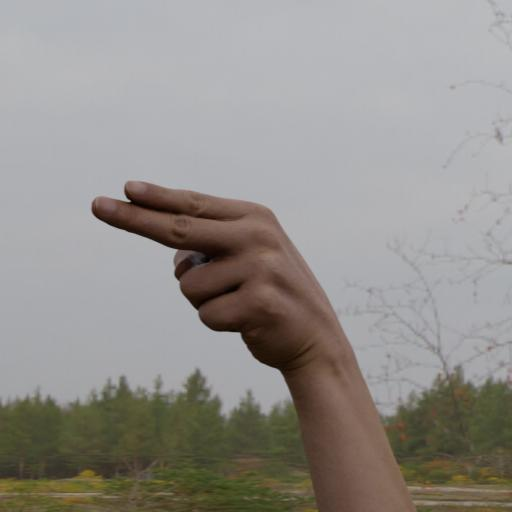H: (82, 172, 354, 382)
